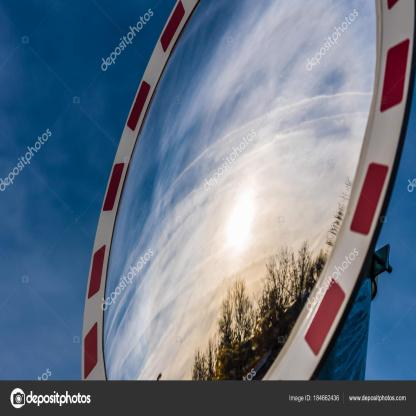other: (197, 150, 290, 291)
